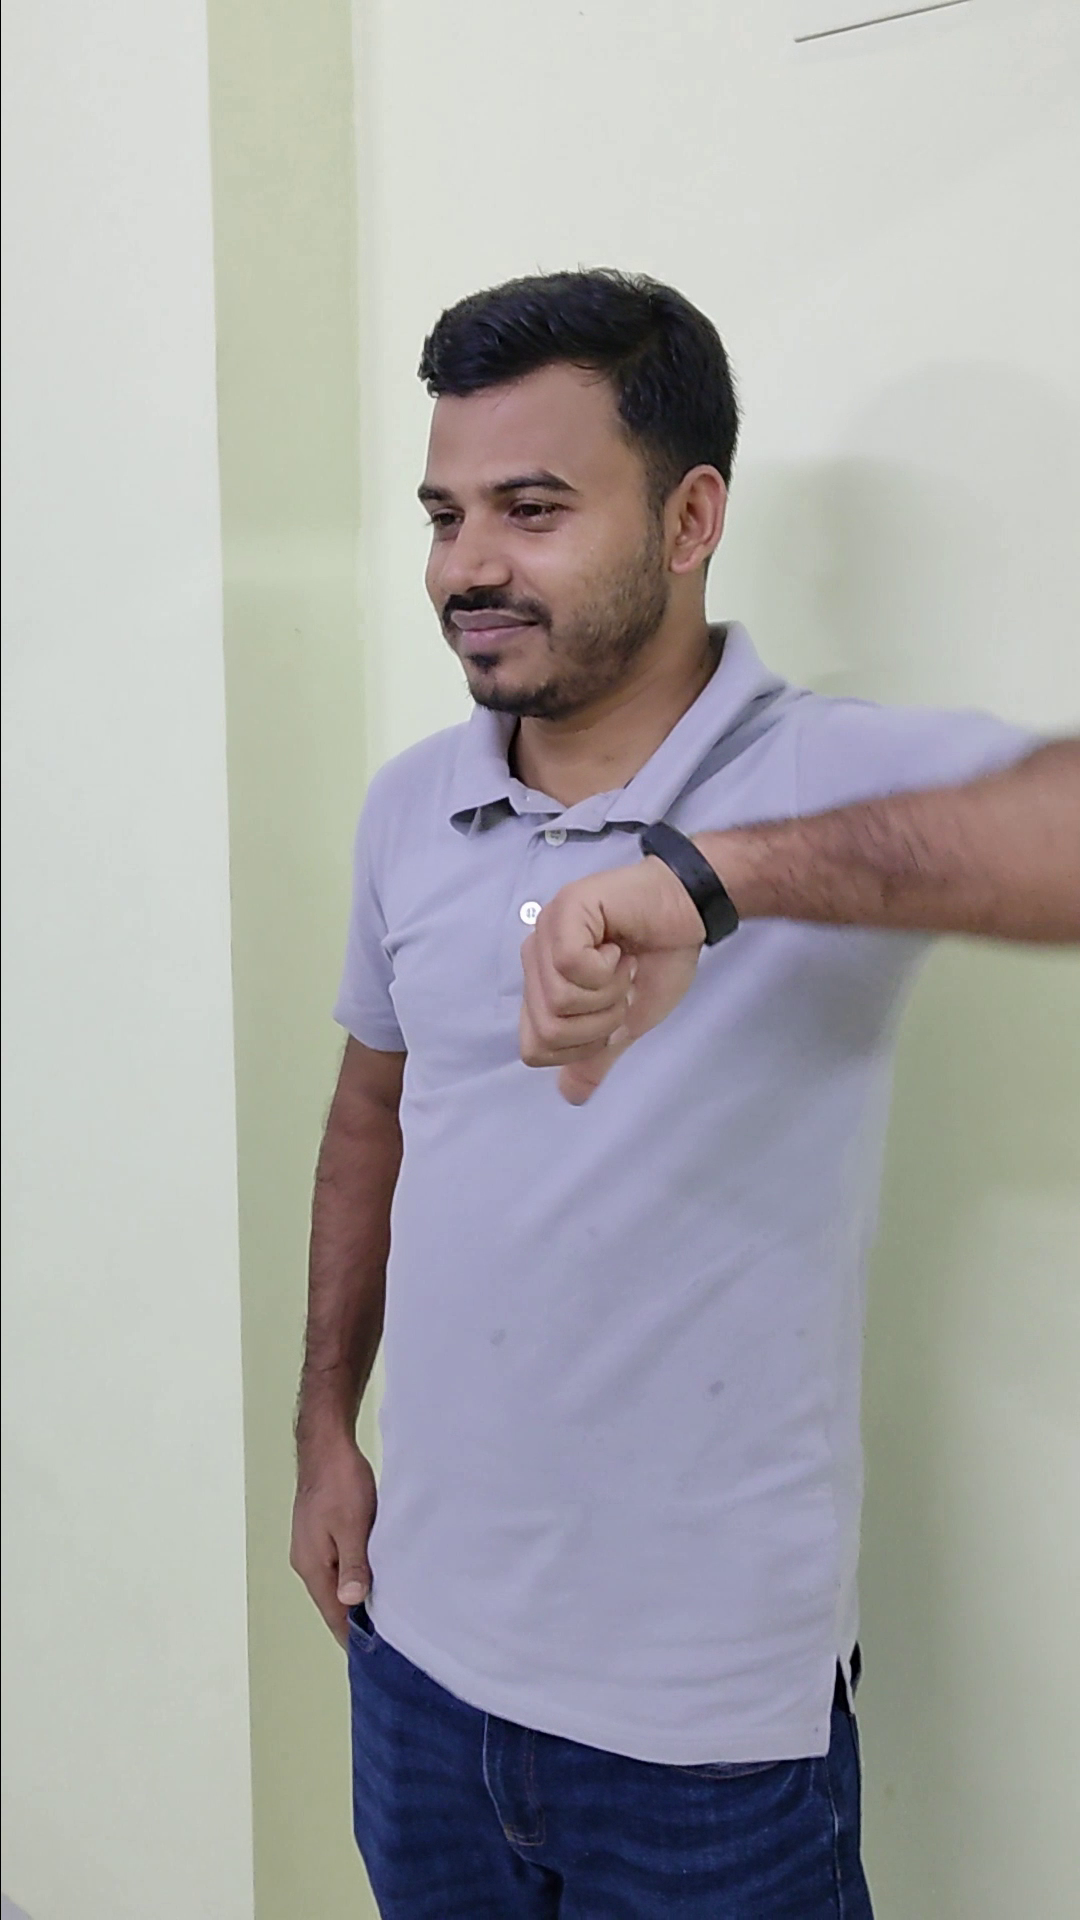Dislike: (492, 824, 756, 1118)
None: (262, 1379, 409, 1672)
